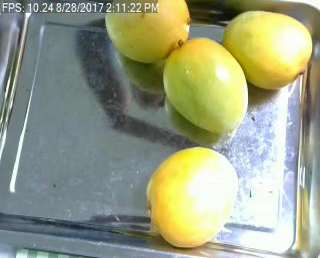Mango: (143, 146, 236, 248), (163, 35, 246, 134), (223, 10, 313, 86), (104, 1, 191, 64)
